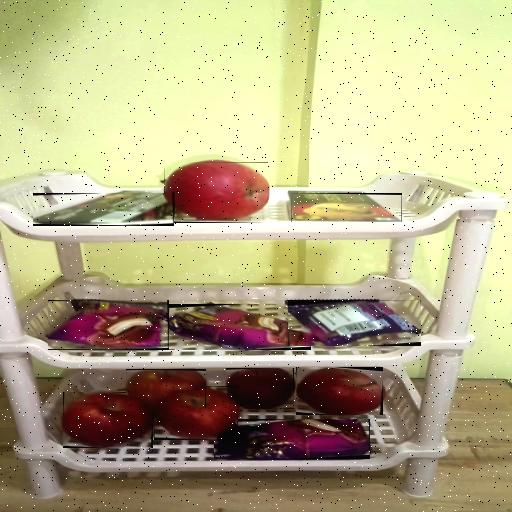Apple: (164, 162, 268, 223), (63, 392, 153, 448), (154, 386, 238, 440), (296, 367, 383, 415), (126, 369, 206, 408), (226, 368, 294, 409)
Choco Fills: (33, 193, 174, 226), (291, 193, 402, 222)
Choco Pie: (162, 304, 311, 350), (214, 419, 370, 459), (286, 300, 420, 346), (48, 300, 169, 350)
